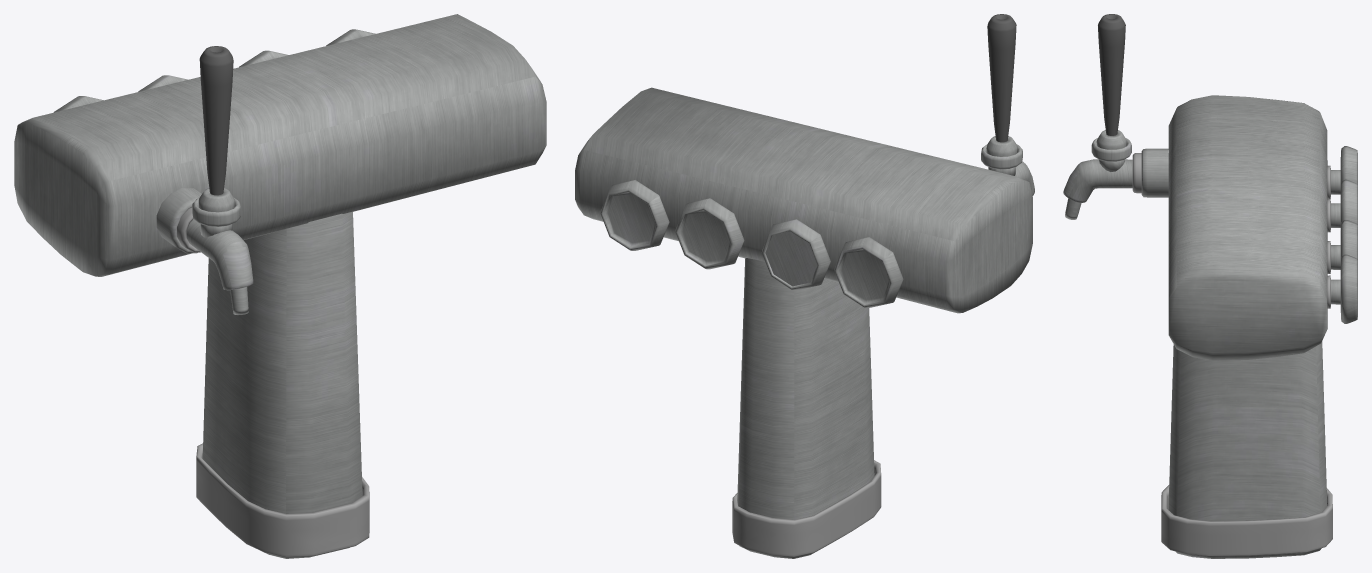
Rendered from Zapfstation.fbx.
The picture shows the model from 3 angles, left to right: view 1: azimuth 30°, elevation 25°; view 2: azimuth 150°, elevation 25°; view 3: azimuth 270°, elevation 25°; orthographic projection. The views are drawn at different scales.
Parts seen in each view (by area): view 1: Zapfhahn_Base, Zapfhahn, Zapfhahn_Hebel; view 2: Zapfhahn_Base, Zapfhahn_Hebel, Zapfhahn; view 3: Zapfhahn_Base, Zapfhahn, Zapfhahn_Hebel.
Boxes of the visible parts, <box> form: Zapfhahn_Base: <box>14,14,546,558</box>; Zapfhahn: <box>156,188,253,314</box>; Zapfhahn_Hebel: <box>198,46,234,212</box>; Zapfhahn_Base: <box>575,87,1032,558</box>; Zapfhahn_Hebel: <box>986,14,1017,156</box>; Zapfhahn: <box>981,144,1034,195</box>; Zapfhahn_Base: <box>1161,95,1357,558</box>; Zapfhahn: <box>1063,138,1168,219</box>; Zapfhahn_Hebel: <box>1096,14,1126,149</box>.
Size of the model in its own units: 59.42 by 73.38 by 42.32.
